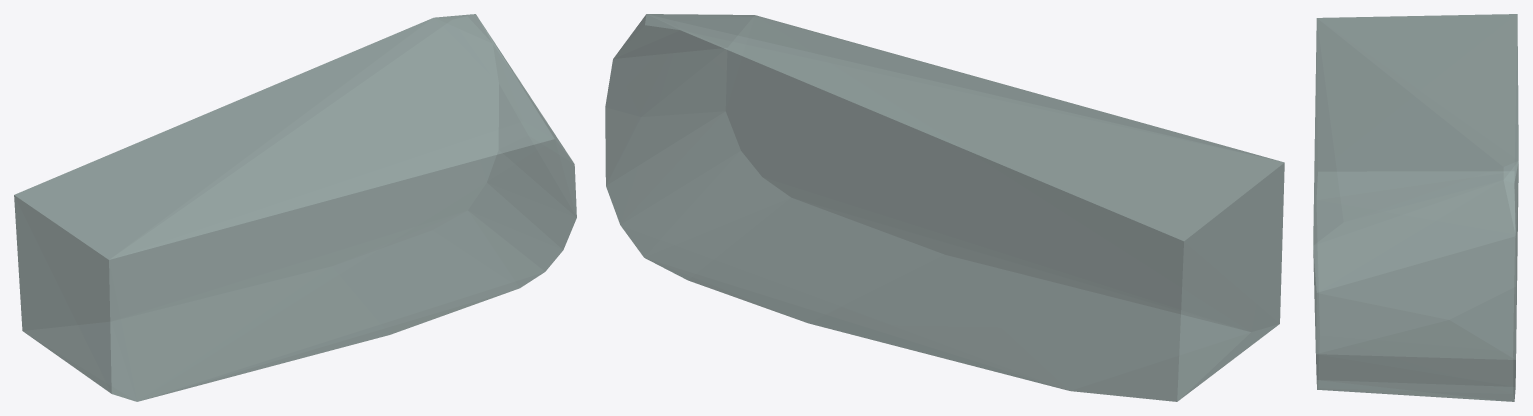
3 renders of one model, left to right at view 1: azimuth 30°, elevation 25°; view 2: azimuth 150°, elevation 25°; view 3: azimuth 270°, elevation 25°, orthographic. The views are drawn at different scales.
Parts seen in each view (by area): view 1: Shape_IndexedFaceSet.010_Shape_IndexedFaceSet.4829; view 2: Shape_IndexedFaceSet.010_Shape_IndexedFaceSet.4829; view 3: Shape_IndexedFaceSet.010_Shape_IndexedFaceSet.4829.
Part boxes in pixels (<box>): Shape_IndexedFaceSet.010_Shape_IndexedFaceSet.4829: <box>14,14,576,401</box>; Shape_IndexedFaceSet.010_Shape_IndexedFaceSet.4829: <box>605,14,1284,401</box>; Shape_IndexedFaceSet.010_Shape_IndexedFaceSet.4829: <box>1313,14,1518,401</box>.
Bounding box in the file's own units: 0.752 × 0.3323 × 0.2465.
